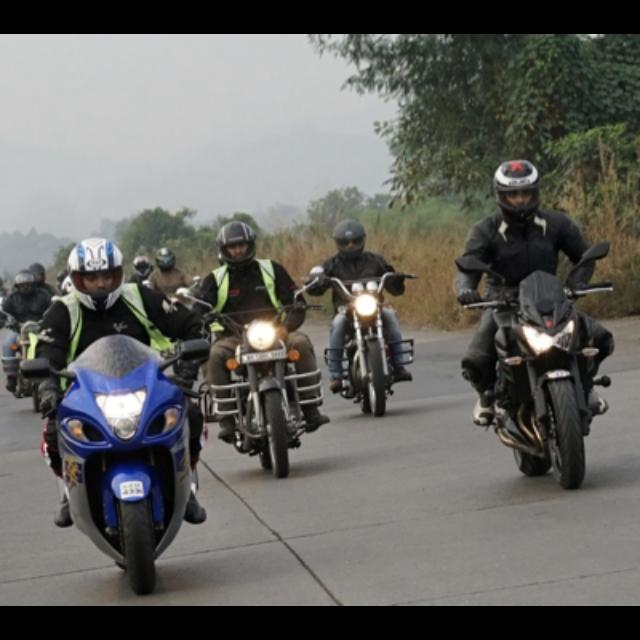With Helmet: (61, 239, 133, 311), (488, 160, 546, 222), (213, 220, 259, 264)
